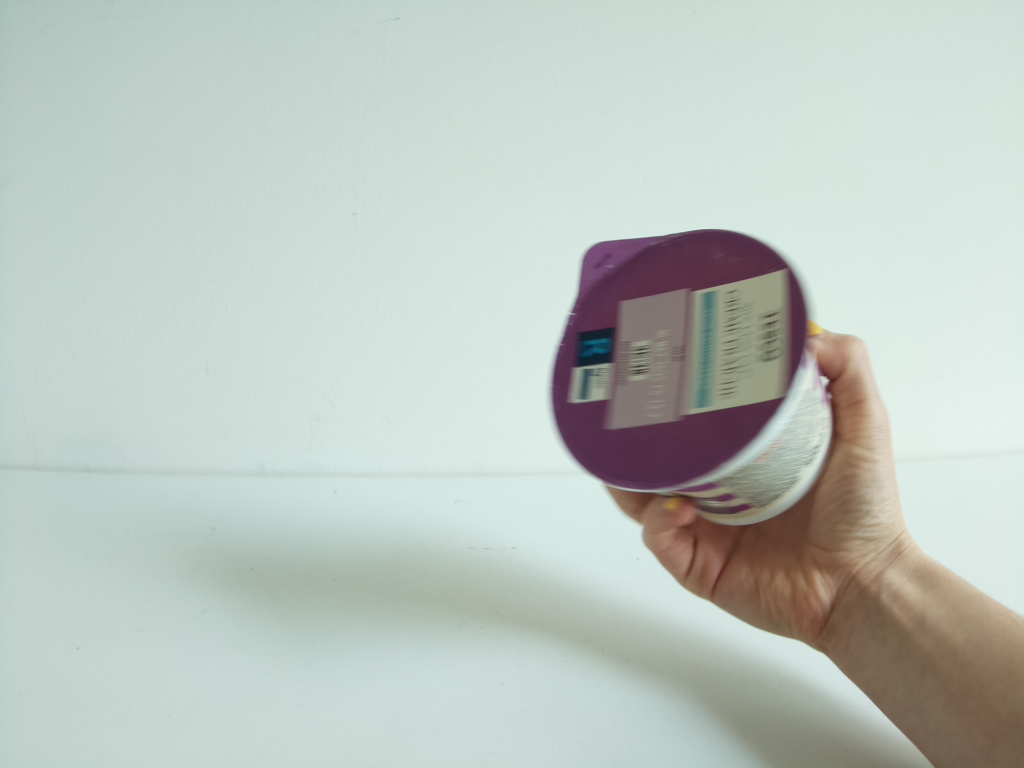cream: (549, 226, 833, 533)
